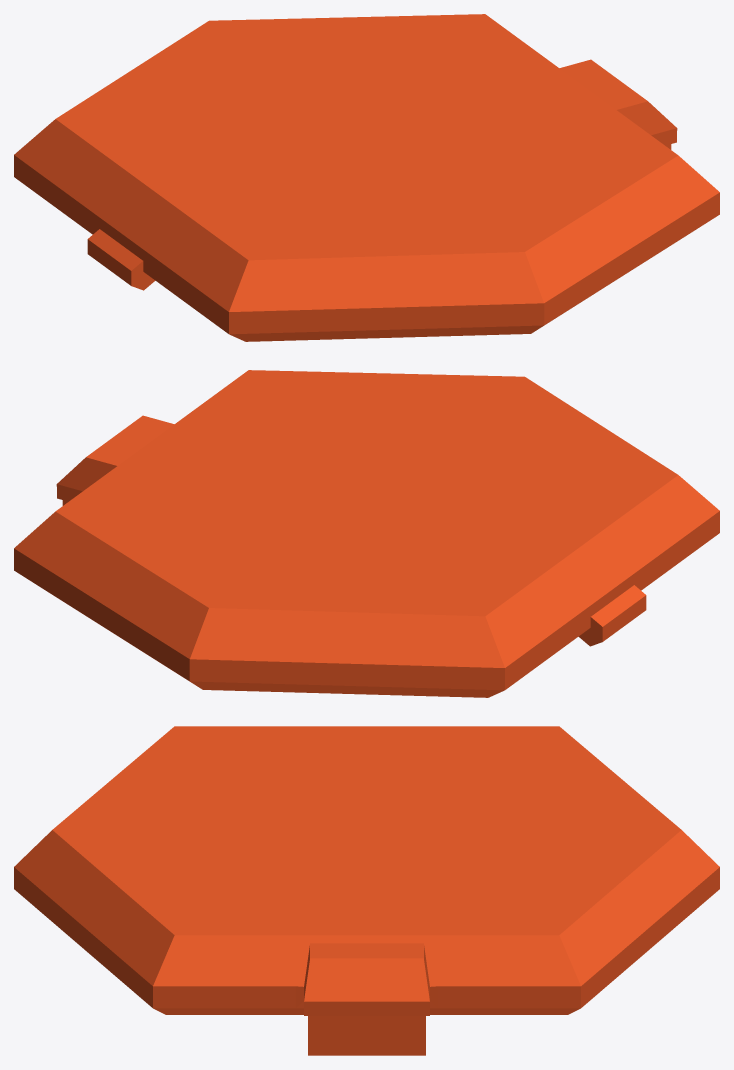
Rendered from Tapa.fbx.
3 views of the same model, one above another, from view 1: azimuth 30°, elevation 25°; view 2: azimuth 150°, elevation 25°; view 3: azimuth 270°, elevation 25° (orthographic).
Parts seen in each view (by area): view 1: Tapa; view 2: Tapa; view 3: Tapa.
Boxes of the visible parts, x1,y1,x2,y2 form: Tapa: (14,14,719,341); Tapa: (14,370,719,697); Tapa: (14,726,719,1055).
Bounding box in the file's own units: 474 × 78.5 × 543.
